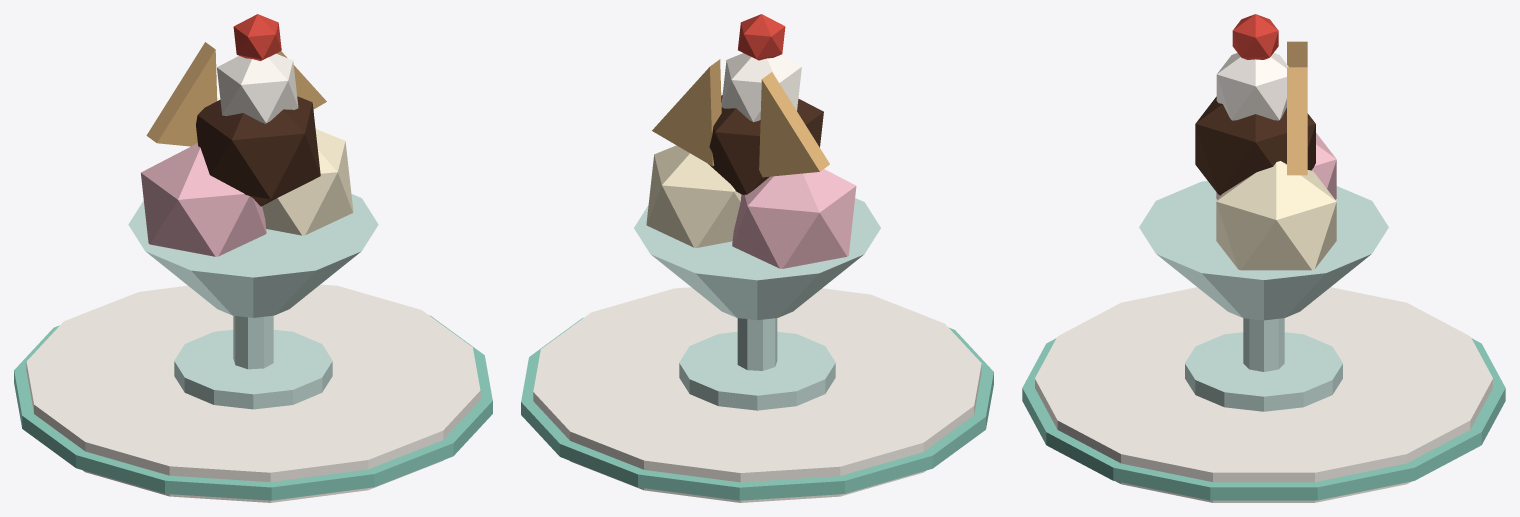
The model's file is CatCafe_Menu_Sundae.glb.
The picture shows the model from 3 angles, left to right: view 1: azimuth 30°, elevation 25°; view 2: azimuth 150°, elevation 25°; view 3: azimuth 270°, elevation 25°; orthographic projection.
Parts seen in each view (by area): view 1: CatCafe_Menu_Sundae_Plate, CatCafe_Menu_Sundae; view 2: CatCafe_Menu_Sundae_Plate, CatCafe_Menu_Sundae; view 3: CatCafe_Menu_Sundae_Plate, CatCafe_Menu_Sundae.
Boxes of the visible parts, box(x1,y1,x2,y2) form: CatCafe_Menu_Sundae_Plate: box(14, 284, 492, 502); CatCafe_Menu_Sundae: box(128, 14, 378, 409); CatCafe_Menu_Sundae_Plate: box(521, 287, 993, 502); CatCafe_Menu_Sundae: box(634, 14, 880, 410); CatCafe_Menu_Sundae_Plate: box(1022, 287, 1505, 502); CatCafe_Menu_Sundae: box(1139, 14, 1388, 411).
Bounding box in the file's own units: 1.13 × 1.09 × 1.16.
Materials: 1 (1 with a texture image).
